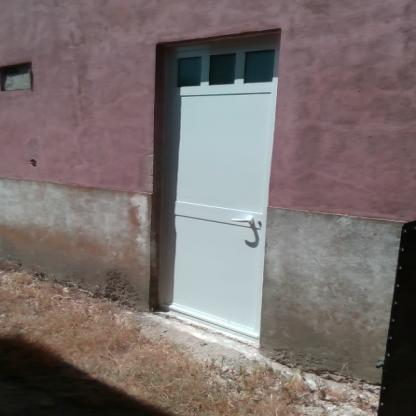door: (162, 49, 264, 335)
lever: (230, 214, 254, 226)
